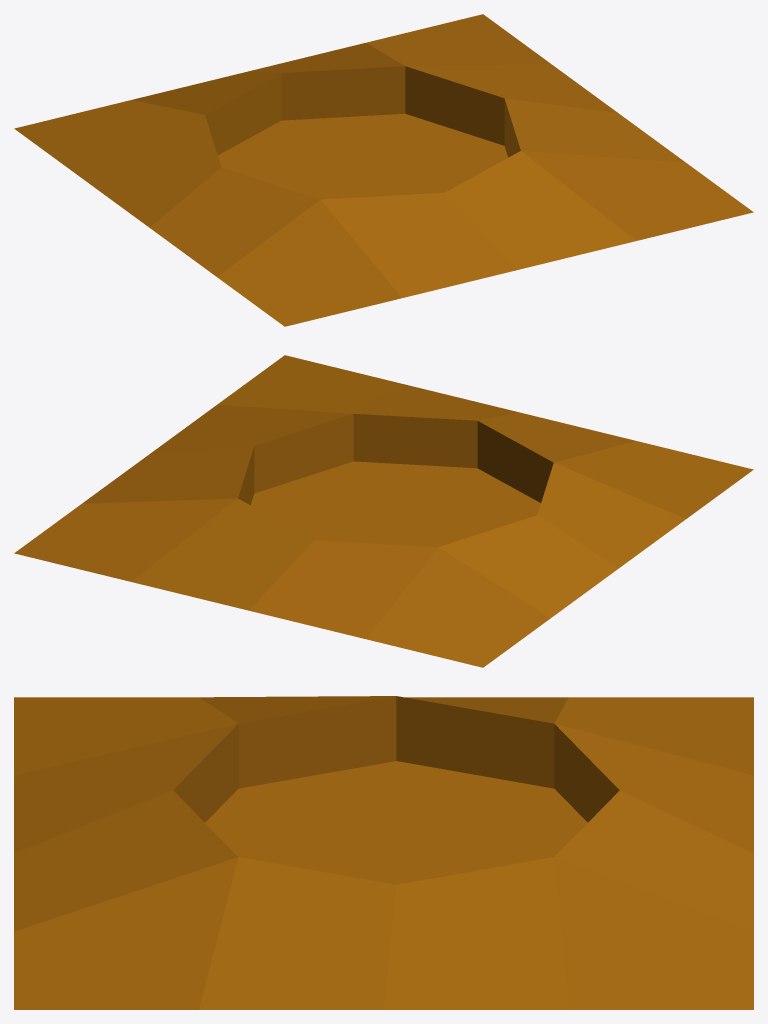
Rendered from delik.fbx.
The picture shows the model from 3 angles, top to bottom: view 1: azimuth 30°, elevation 25°; view 2: azimuth 150°, elevation 25°; view 3: azimuth 270°, elevation 25°; orthographic projection. The views are drawn at different scales.
Visible parts, largest first — view 1: Plane; view 2: Plane; view 3: Plane.
Boxes of the visible parts, x1,y1,x2,y2 form: Plane: (14, 14, 753, 326); Plane: (14, 355, 753, 667); Plane: (14, 696, 753, 1009).
Size of the model in its own units: 200 by 19.39 by 200.
